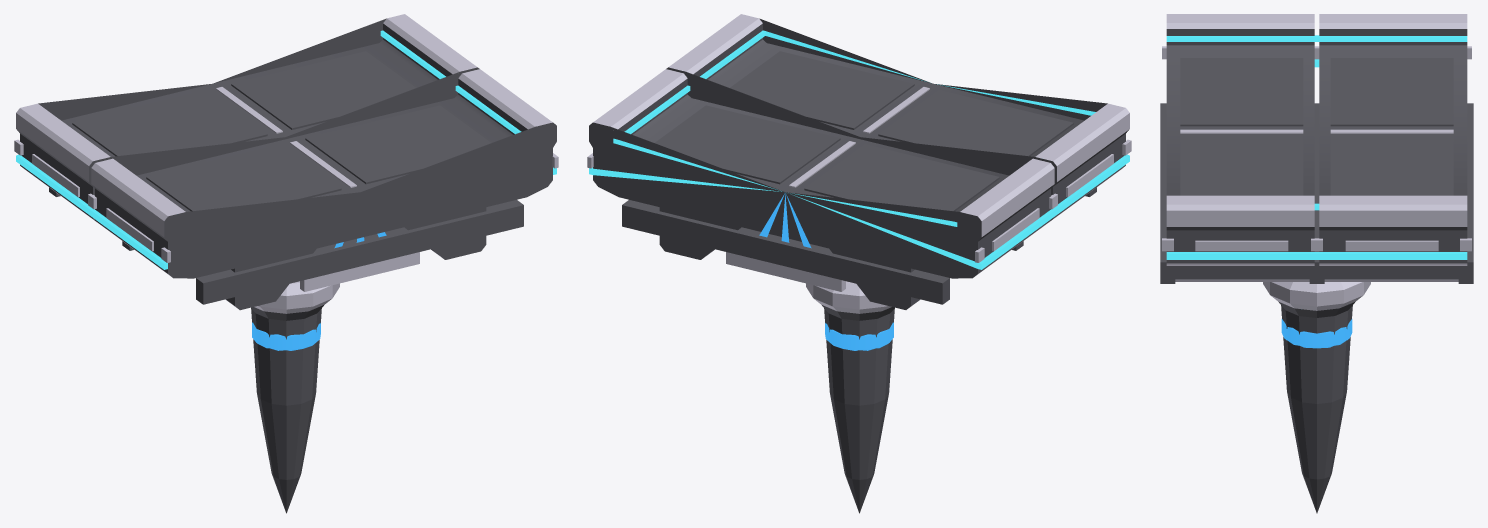
The model's file is Bridge_Straight_2m_quest.glb.
3 renders of one model, left to right at view 1: azimuth 30°, elevation 25°; view 2: azimuth 150°, elevation 25°; view 3: azimuth 270°, elevation 25°, orthographic.
Parts seen in each view (by area): view 1: Bridge_Straight_2m_Deck, Bridge_Straight_2m_Pylons, Bridge_Straight_2m_EdgeLight, Bridge_Straight_2m_Conduits; view 2: Bridge_Straight_2m_Deck, Bridge_Straight_2m_Pylons, Bridge_Straight_2m_EdgeLight, Bridge_Straight_2m_Conduits; view 3: Bridge_Straight_2m_Deck, Bridge_Straight_2m_Pylons, Bridge_Straight_2m_EdgeLight, Bridge_Straight_2m_Conduits.
Part boxes in pixels (box(x1,y1,x2,y2)): Bridge_Straight_2m_Deck: box(14, 14, 558, 310); Bridge_Straight_2m_Pylons: box(251, 281, 339, 513); Bridge_Straight_2m_EdgeLight: box(16, 30, 556, 269); Bridge_Straight_2m_Conduits: box(252, 232, 386, 350); Bridge_Straight_2m_Deck: box(587, 14, 1131, 309); Bridge_Straight_2m_Pylons: box(806, 281, 894, 513); Bridge_Straight_2m_EdgeLight: box(589, 30, 1129, 269); Bridge_Straight_2m_Conduits: box(759, 193, 893, 350); Bridge_Straight_2m_Deck: box(1160, 14, 1473, 283); Bridge_Straight_2m_Pylons: box(1263, 282, 1370, 513); Bridge_Straight_2m_EdgeLight: box(1166, 35, 1467, 259); Bridge_Straight_2m_Conduits: box(1281, 319, 1352, 348).
Bounding box in the file's own units: 3.06 × 2.97 × 2.08.
